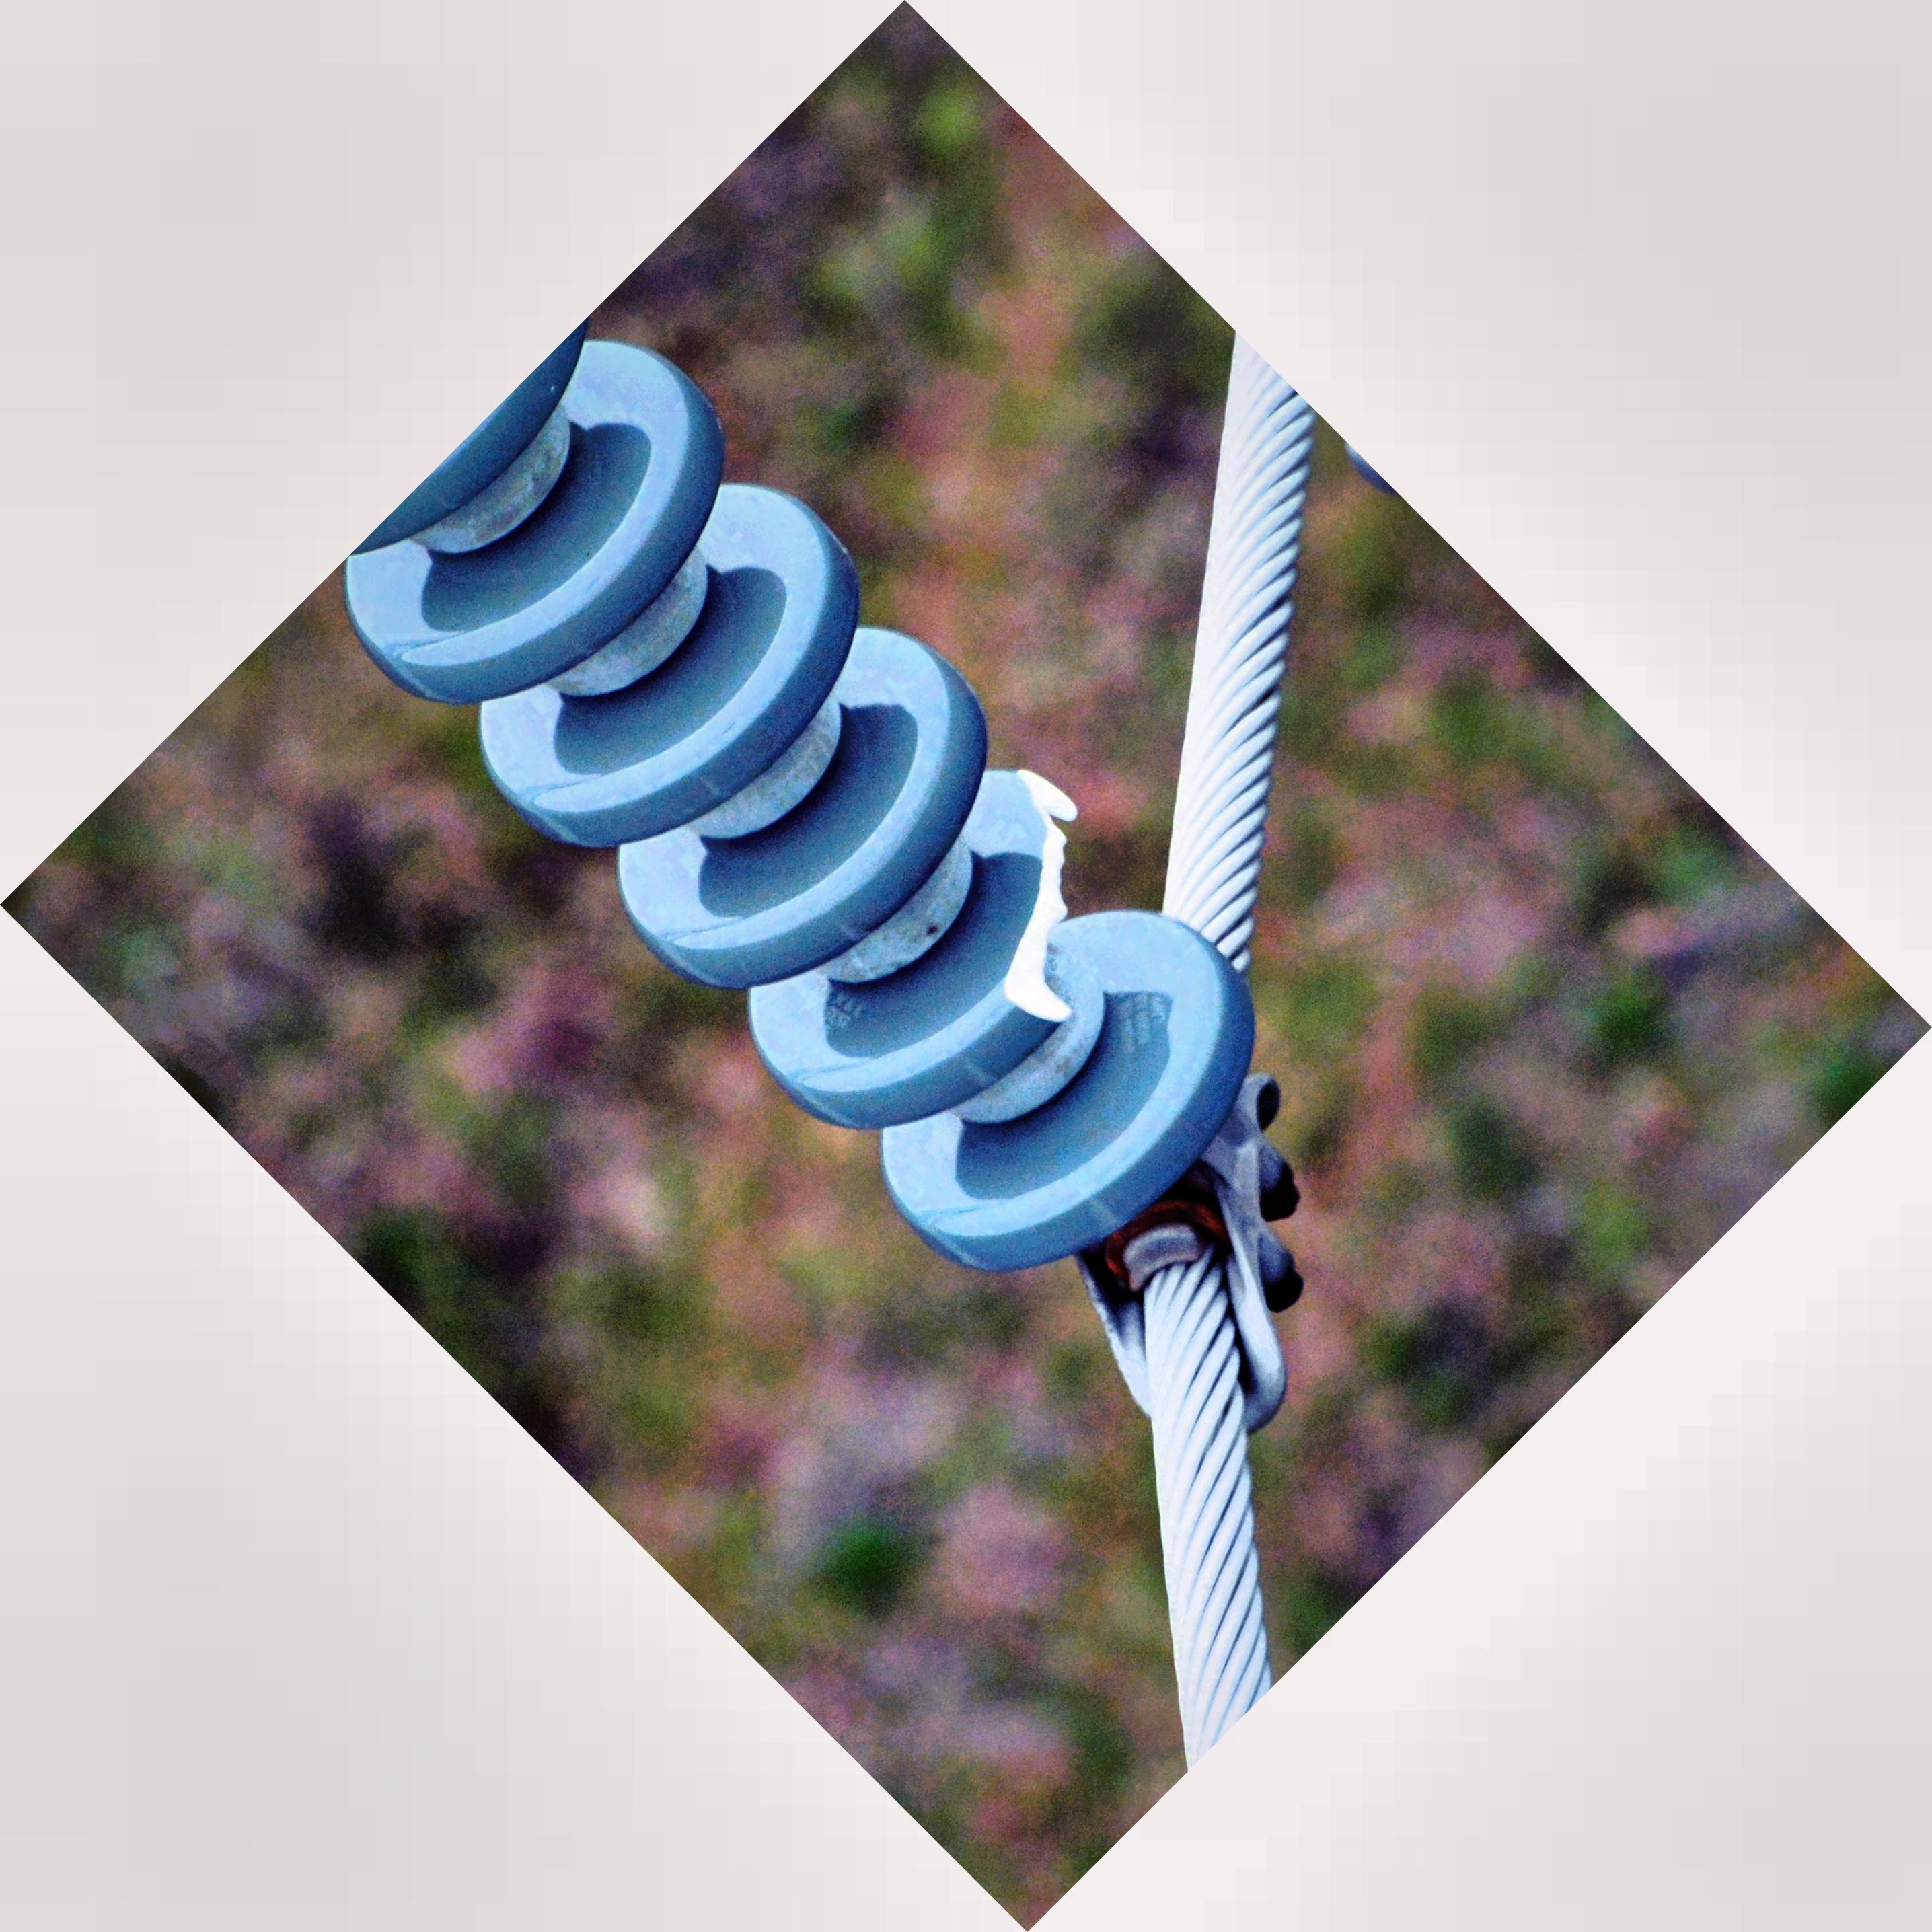insulator breakage: (732, 752, 1108, 1139)
